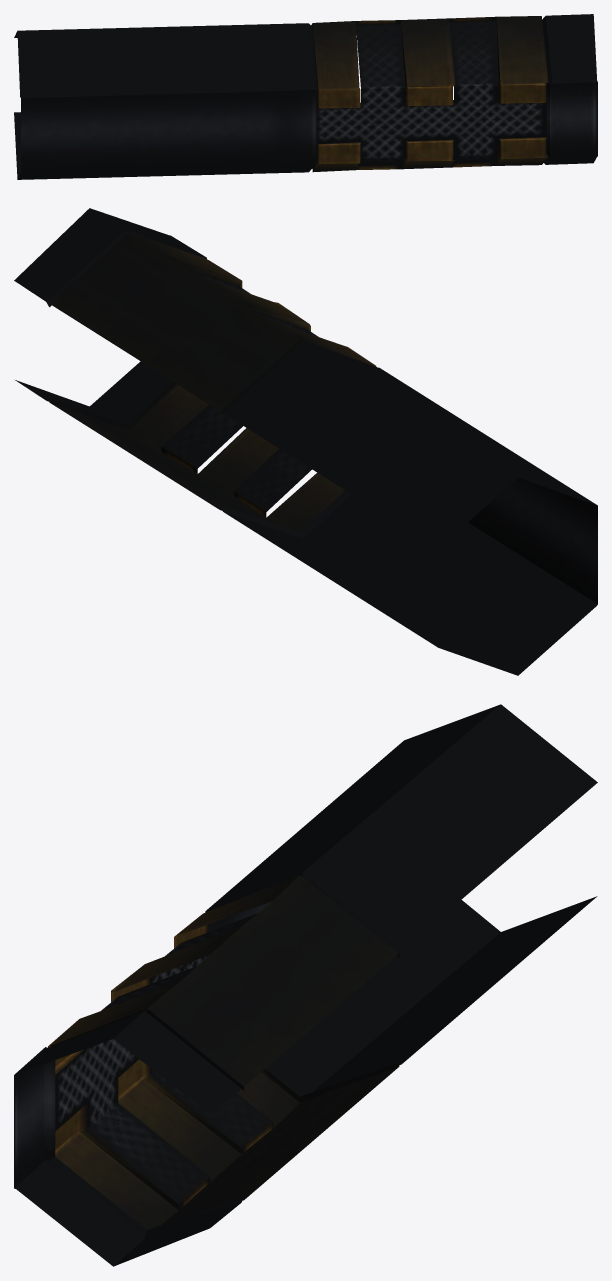
File: v_rock_4.obj
The picture shows the model from 3 angles, top to bottom: view 1: azimuth 30°, elevation 25°; view 2: azimuth 150°, elevation 25°; view 3: azimuth 270°, elevation 25°; orthographic projection. The views are drawn at different scales.
Bounding box in the file's own units: 18.62 × 5.28 × 12.27.
Materials: 1 (1 with a texture image).
